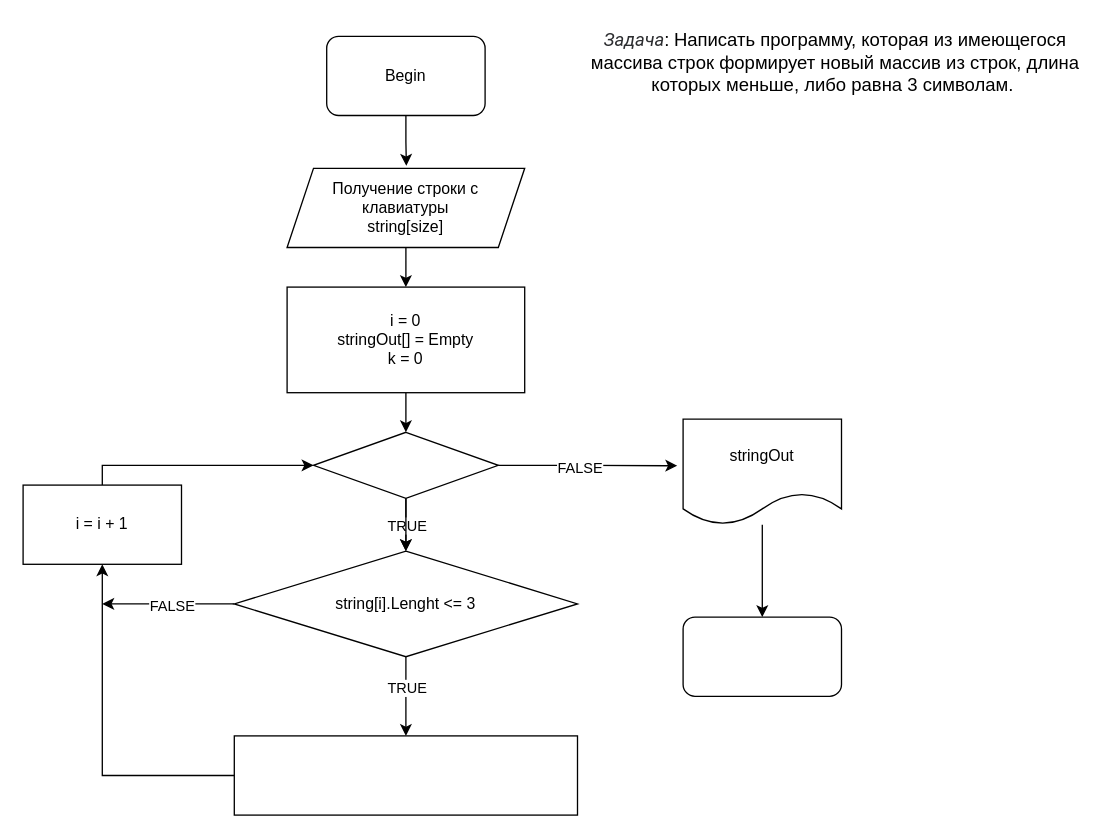
The diagram is 1115 pixels wide and 838 high, and some of its shapes have lost their labels. The shapes that lost their labels are listed below. From the top down, each one's box as (x1, y1, x2, y2) in pixels, then its label:
(312, 431, 498, 498): i < size - 1
(682, 616, 842, 696): FINISH
(233, 735, 578, 815): stringOut [k] = string[i] k = k + 1
